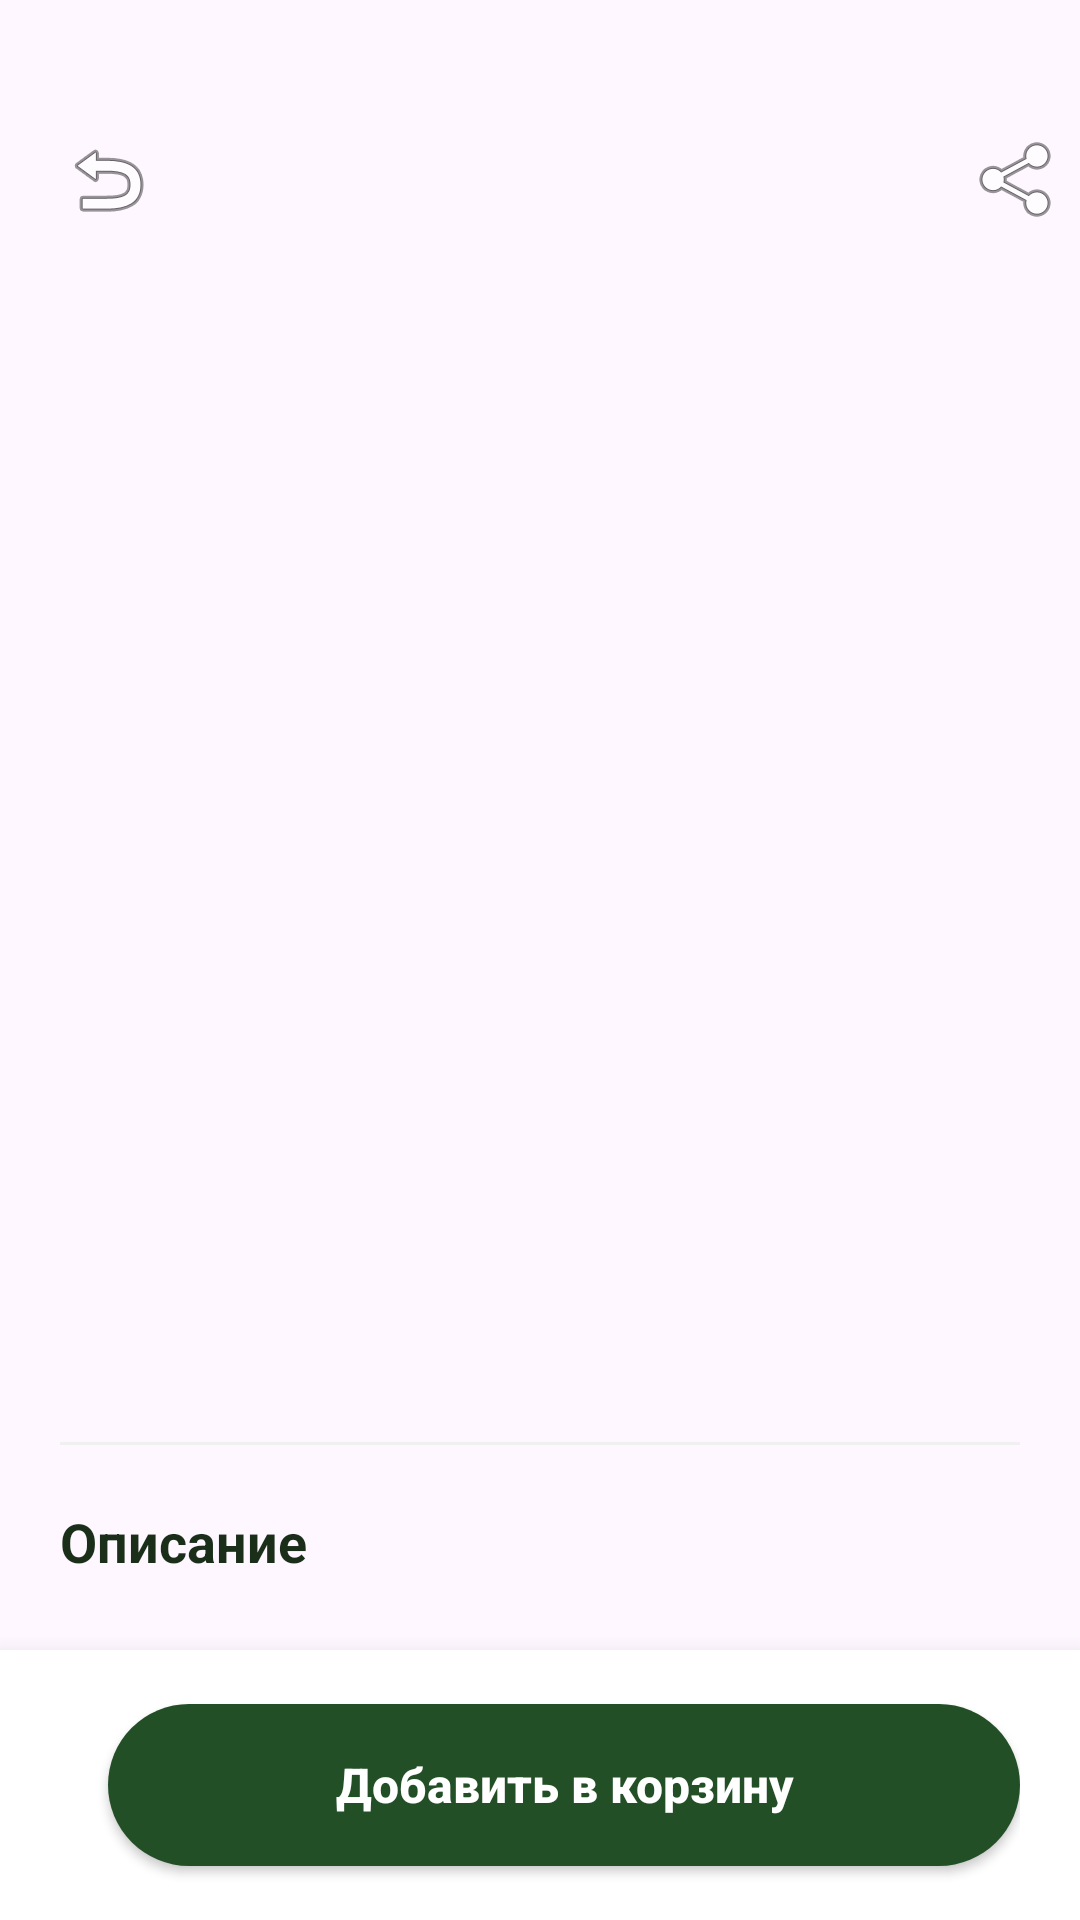

Icon click points for this 1080w x 1920h phone screenshot, format (x=x, y=y):
revert: (x=109, y=180)
share: (x=1015, y=179)
